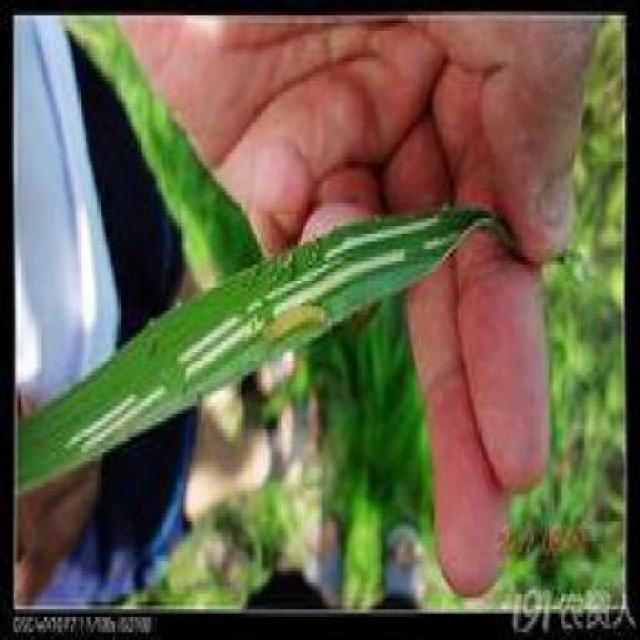leaf-folder: (257, 282, 335, 366)
